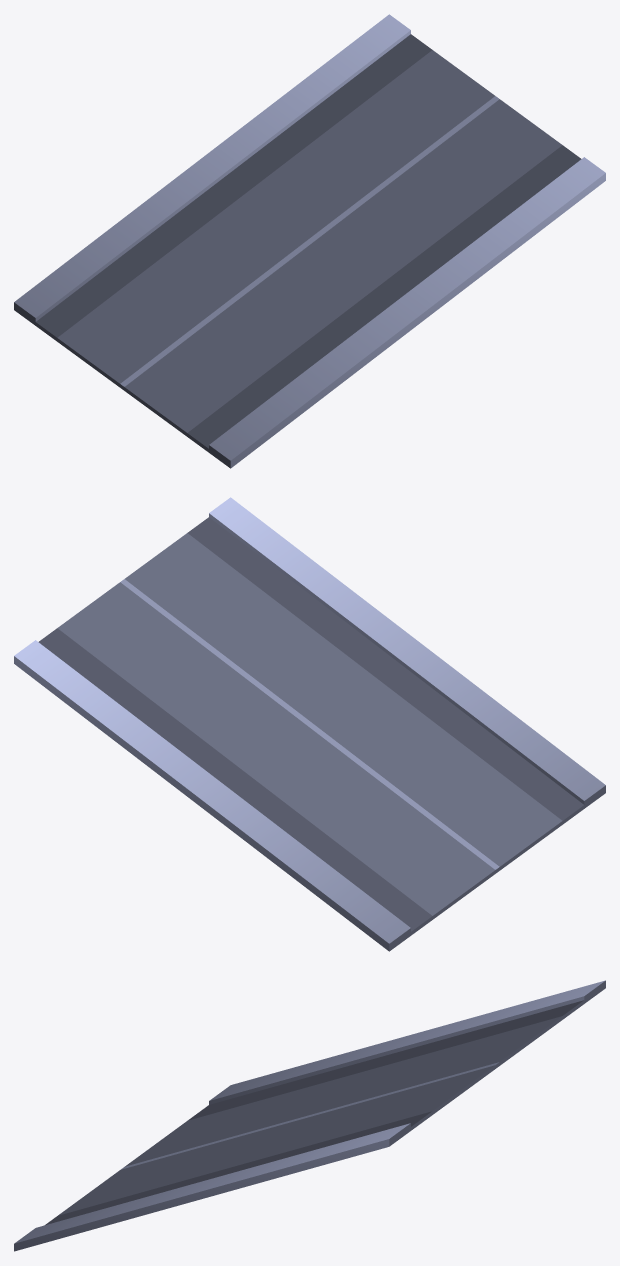
The model's file is road-slant-flat-high.glb.
The picture shows the model from 3 angles, top to bottom: view 1: azimuth 30°, elevation 25°; view 2: azimuth 150°, elevation 25°; view 3: azimuth 330°, elevation 25°; orthographic projection.
Parts seen in each view (by area): view 1: road-slant-flat-high; view 2: road-slant-flat-high; view 3: road-slant-flat-high.
Part boxes in pixels (x1=…): road-slant-flat-high: x1=14, y1=14, x2=605, y2=468; road-slant-flat-high: x1=14, y1=497, x2=605, y2=951; road-slant-flat-high: x1=14, y1=980, x2=605, y2=1251.
Size of the model in its own units: 1 by 0.52 by 1.
Materials: 1 (1 with a texture image).
